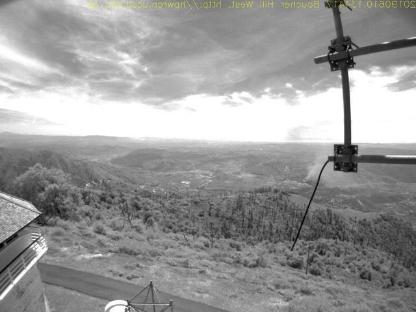smoke: (302, 148, 336, 186)
